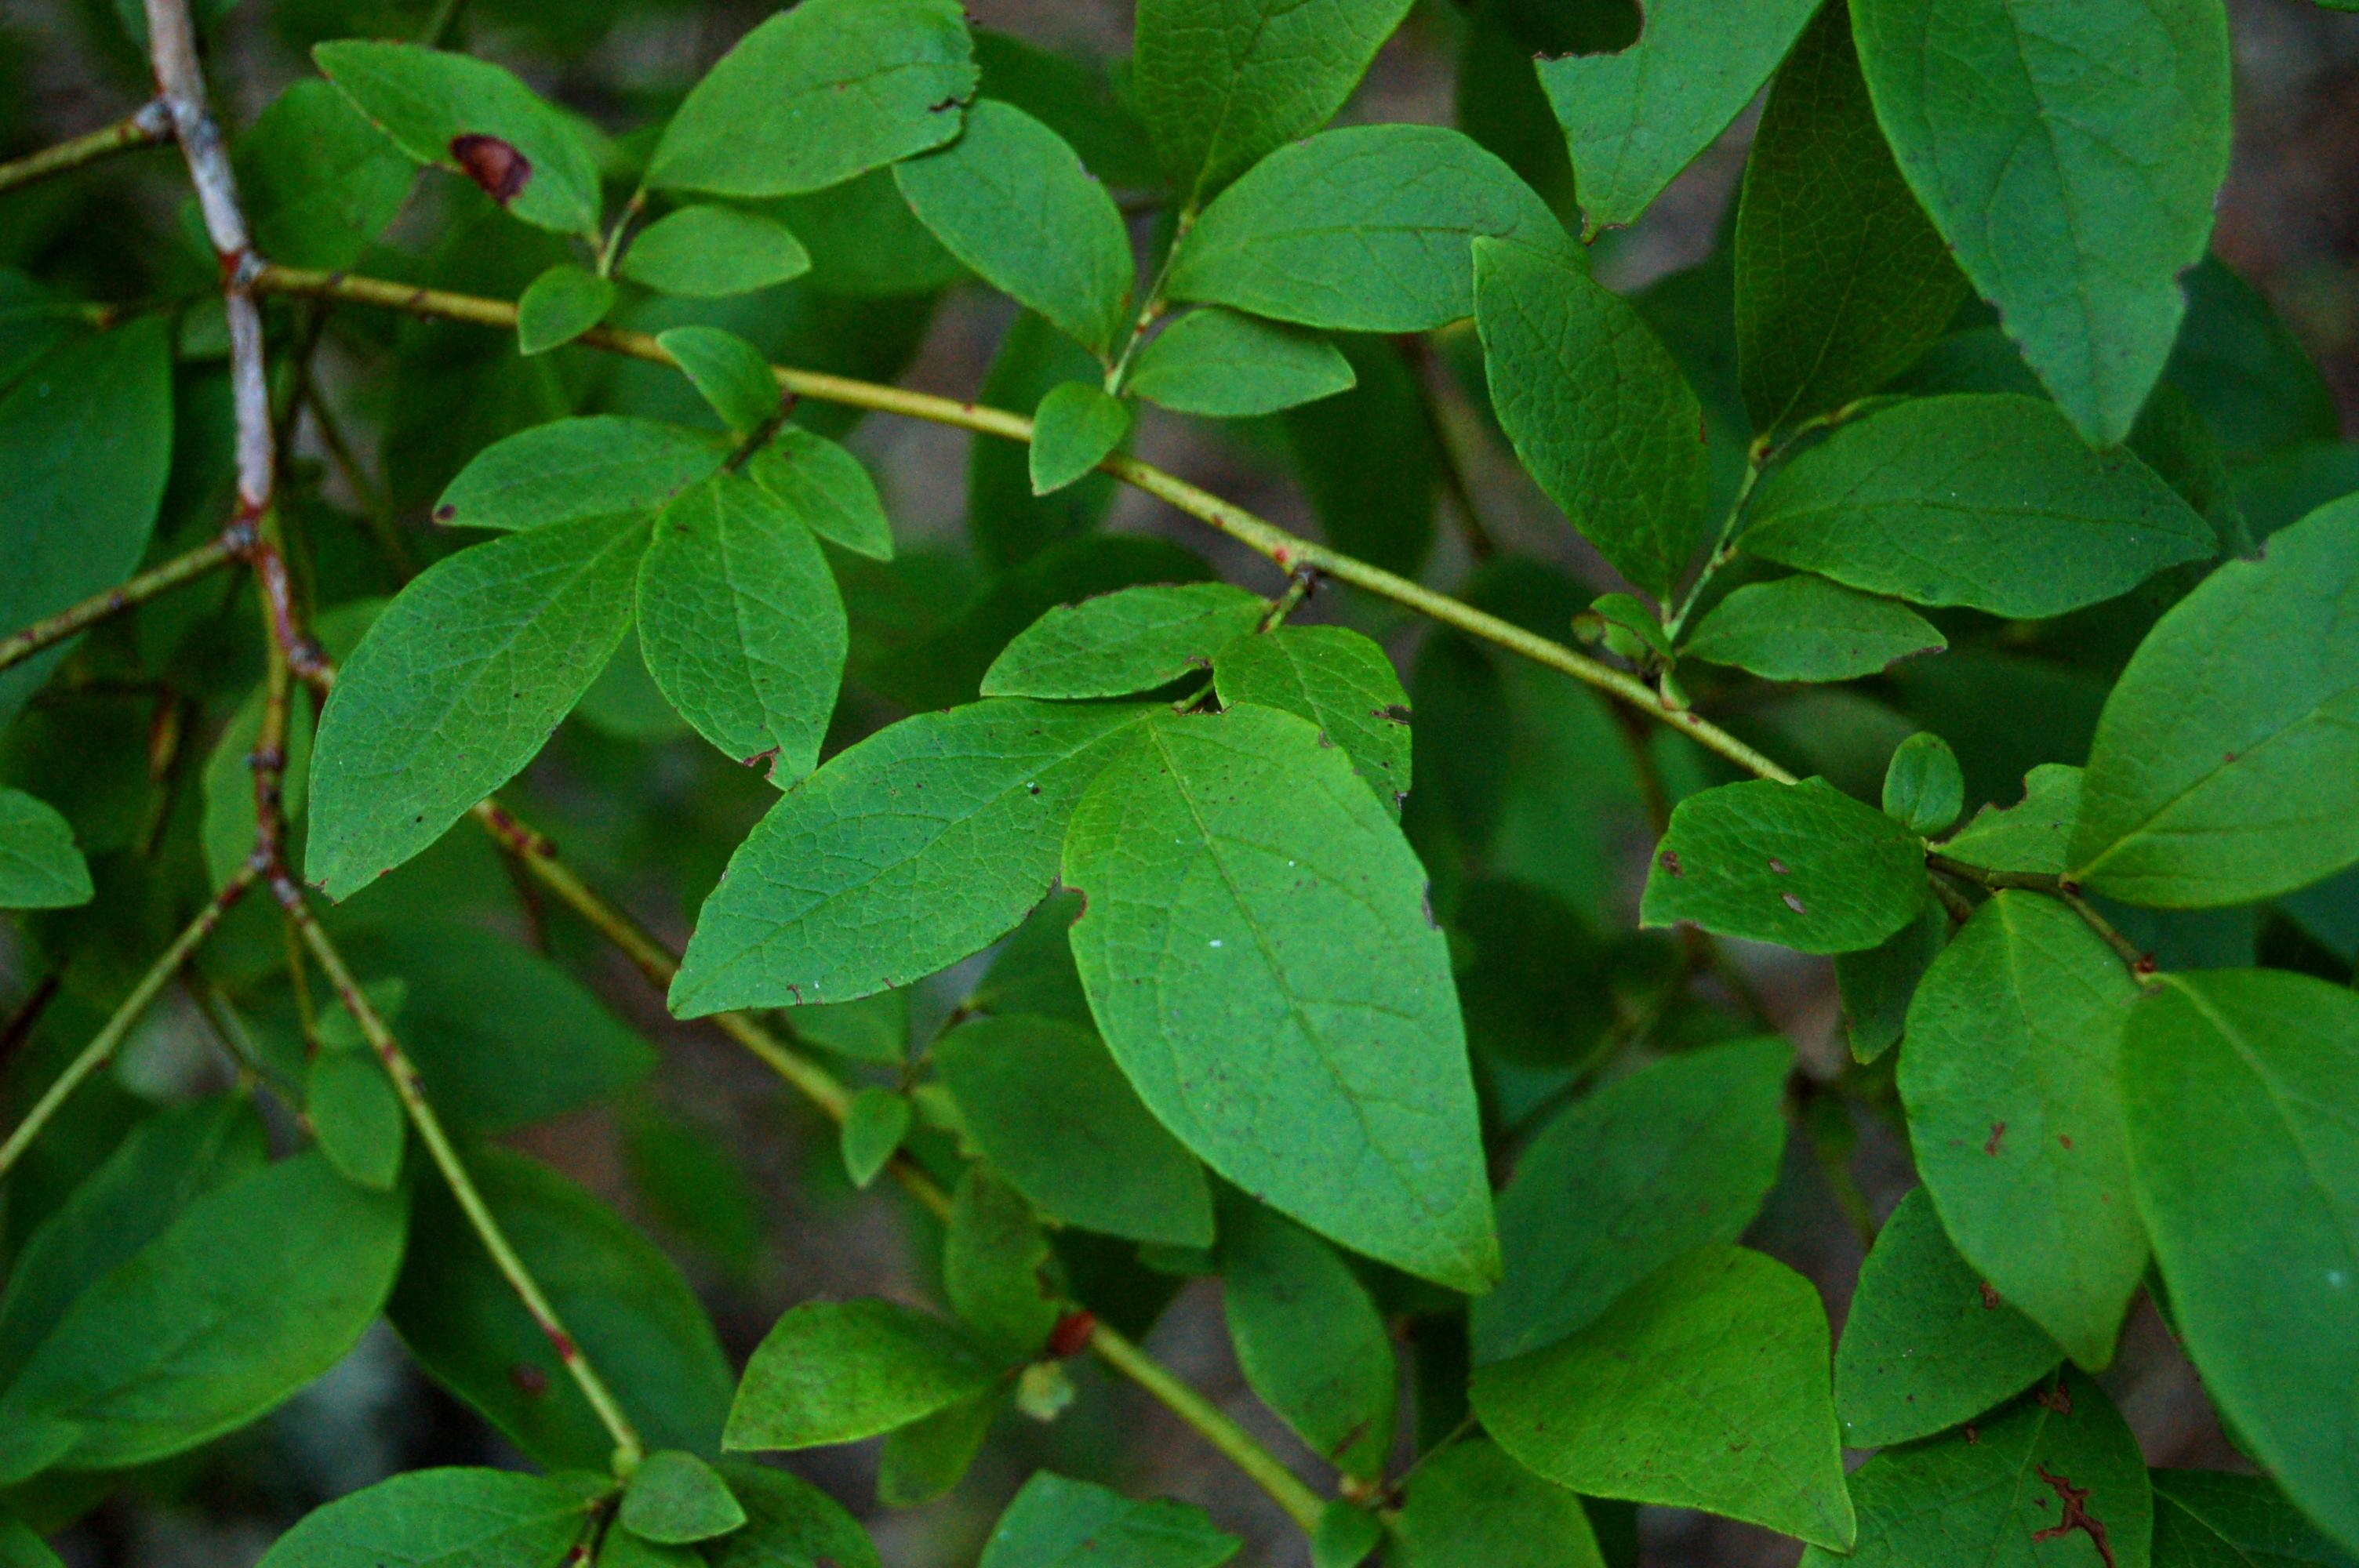Blueberry leaf: (1046, 698, 1519, 1306), (642, 674, 1165, 1047), (276, 495, 665, 924), (12, 1120, 427, 1508), (1718, 369, 2278, 635), (2103, 954, 2359, 1533), (1438, 1220, 1881, 1545), (1881, 852, 2152, 1372), (1444, 212, 1753, 623), (2081, 504, 2359, 921), (1134, 143, 1603, 339), (639, 457, 861, 786), (868, 95, 1130, 371), (1624, 759, 1949, 963), (1118, 311, 1376, 451), (1025, 373, 1134, 520), (1885, 730, 1972, 849)
